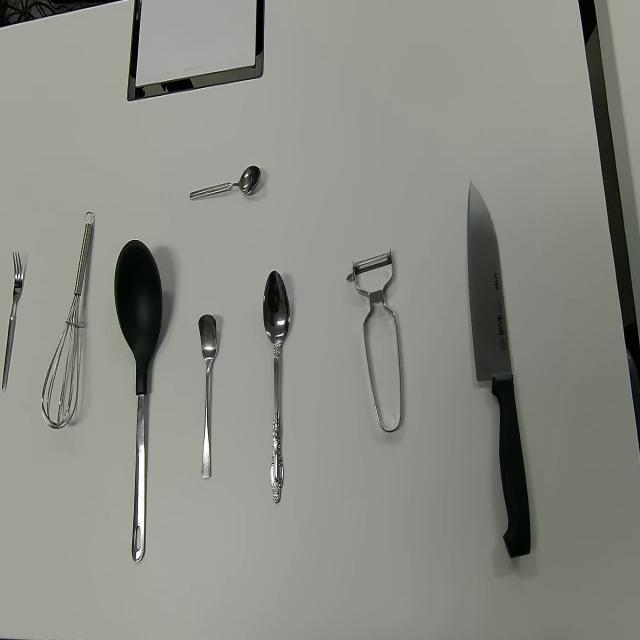Desert-Spoon: (262, 268, 291, 504)
Dinner-Fork: (1, 250, 25, 394)
Kitchen-Knife: (466, 179, 532, 560)
Peeler: (346, 247, 402, 433)
Serving-Spoon: (114, 237, 164, 564)
Tea-Spoon: (197, 312, 218, 480), (188, 163, 262, 202)
Whisk: (40, 210, 96, 430)
